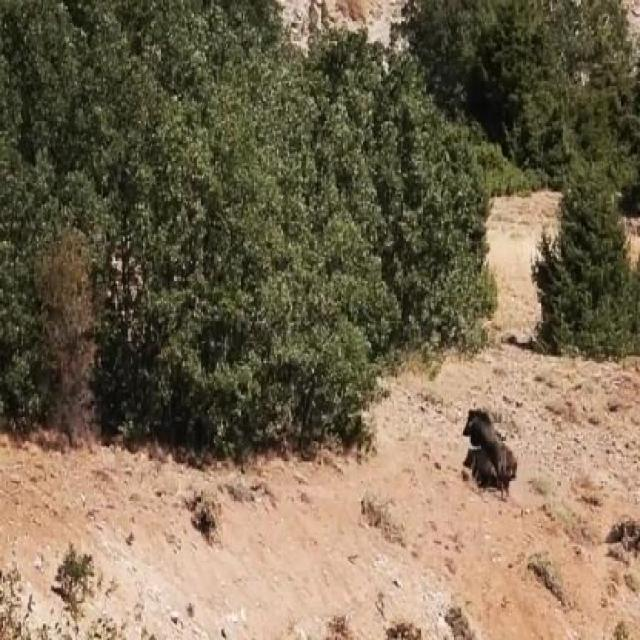pig: (456, 388, 522, 485)
